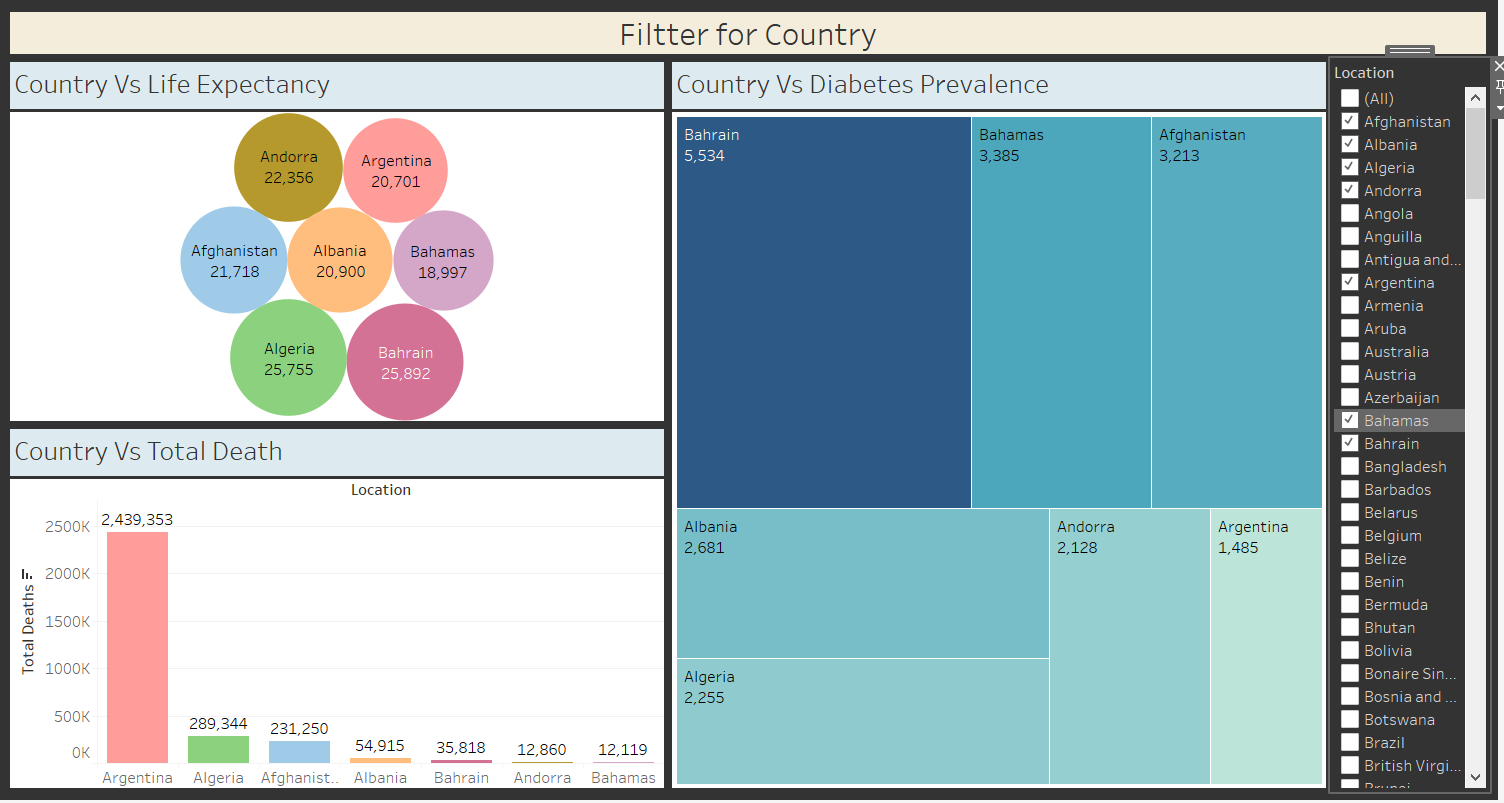

Layout of this report page (visuals, bound fields, positions):
{"tool":"tableau","page":{"name":"Filtter for country ","canvas":[1500,800],"ordinal":0},"visuals":[{"type":"worksheet","box":[0,0,1500,800]},{"type":"worksheet","param":"vert","box":[8,8,1484,784]},{"type":"worksheet","box":[8,8,1484,50]},{"type":"worksheet","param":"horz","box":[8,58,1484,734]},{"type":"worksheet","box":[8,58,1324,734]},{"type":"worksheet","title":"Country Vs Life Expectancy","mark":"Circle","box":[8,58,662,367]},{"type":"worksheet","title":"Country Vs Diabetes Prevalence","mark":"Automatic","box":[670,58,662,734]},{"type":"worksheet","param":"vert","box":[1332,58,160,734]},{"type":"worksheet","title":"Country Vs Life Expectancy","mark":"Circle","param":"[federated.0dsscqg1vu7paa1h94muc19vwntl].[none:location:nk]","box":[1332,58,160,734]},{"type":"worksheet","title":"Country Vs Total Death","mark":"Automatic","rows":["total_deaths"],"cols":["location"],"box":[8,425,662,367]}]}

Visuals, with their boxes in screenshot pixels (x1, y1, x2, y2):
worksheet: (4, 0, 1487, 791)
worksheet: (12, 8, 1479, 783)
worksheet: (12, 8, 1479, 57)
worksheet: (12, 57, 1479, 783)
worksheet: (12, 57, 1321, 783)
"Country Vs Life Expectancy" worksheet (Circle marks): (12, 57, 666, 420)
"Country Vs Diabetes Prevalence" worksheet: (666, 57, 1321, 783)
worksheet: (1321, 57, 1479, 783)
"Country Vs Life Expectancy" worksheet (Circle marks): (1321, 57, 1479, 783)
"Country Vs Total Death" worksheet: (12, 420, 666, 783)
